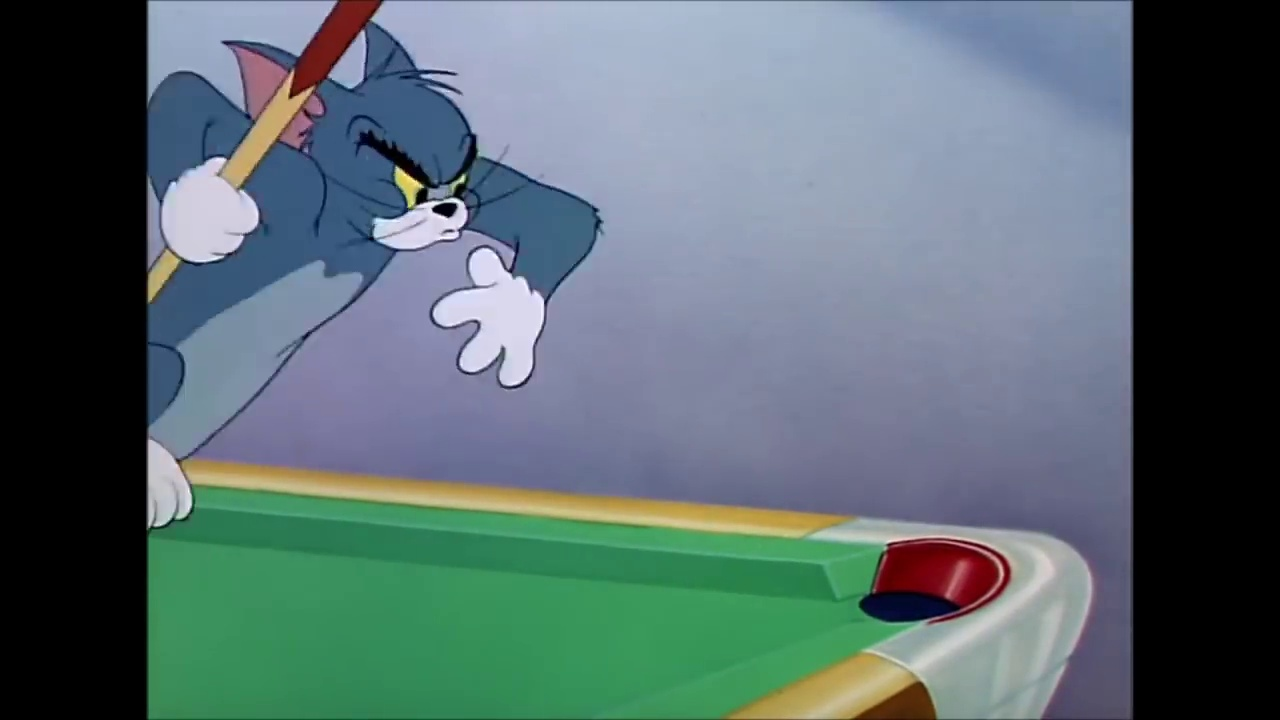angry: (348, 105, 477, 243)
